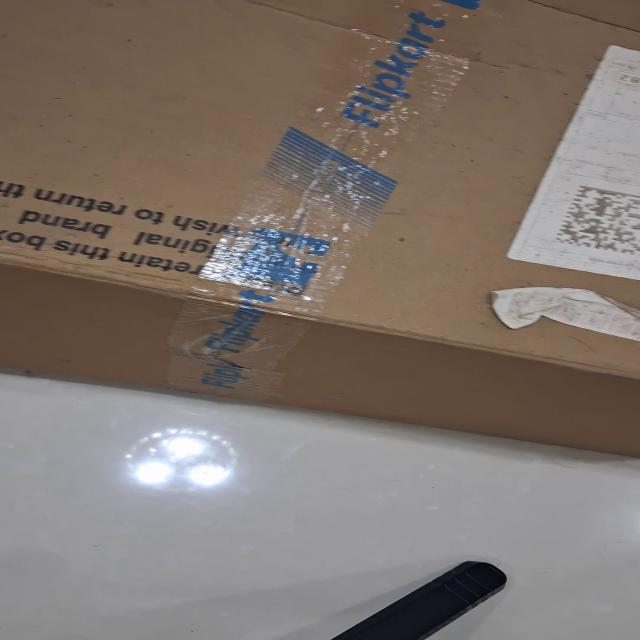paper: (504, 44, 639, 281), (488, 286, 639, 342)
